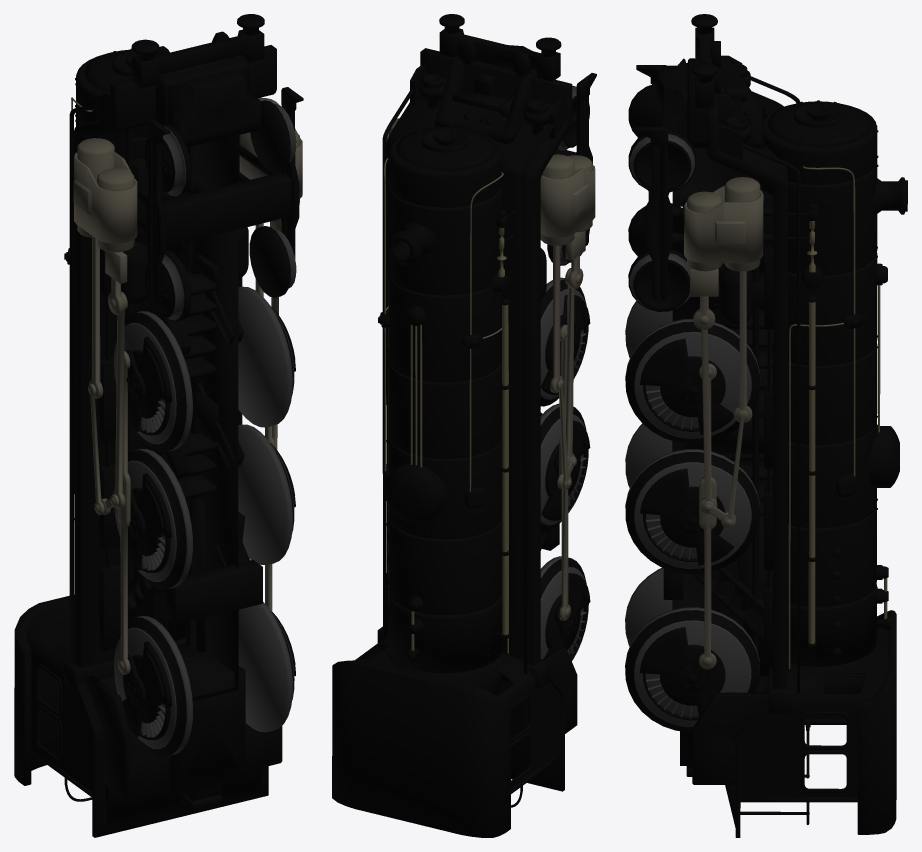
File: OldTrain.fbx
The picture shows the model from 3 angles, left to right: view 1: azimuth 30°, elevation 25°; view 2: azimuth 150°, elevation 25°; view 3: azimuth 270°, elevation 25°; orthographic projection. The views are drawn at different scales.
Parts seen in each view (by area): view 1: OldTrain; view 2: OldTrain; view 3: OldTrain.
Boxes of the visible parts, box(x1,y1,x2,y2) form: OldTrain: box(14, 14, 303, 837); OldTrain: box(332, 14, 596, 837); OldTrain: box(625, 14, 907, 837).
Bounding box in the file's own units: 475 × 1735 × 589.
